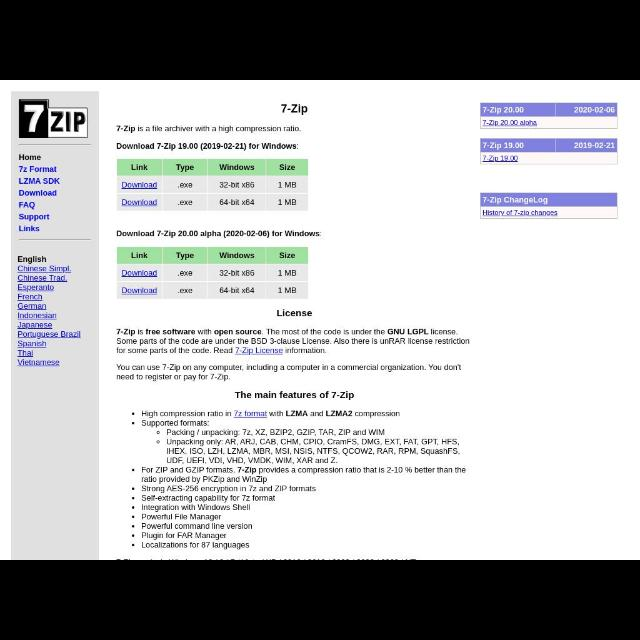image: (19, 100, 89, 138)
link: (482, 210, 558, 217), (18, 266, 72, 274), (234, 347, 284, 355), (17, 332, 81, 338), (482, 120, 538, 126), (120, 270, 158, 278), (18, 312, 56, 320), (18, 276, 68, 282), (18, 359, 60, 366), (122, 287, 158, 295), (18, 284, 54, 292), (122, 182, 158, 190), (18, 322, 52, 330), (234, 410, 268, 418), (122, 200, 158, 207), (17, 340, 47, 348), (482, 156, 518, 162), (17, 304, 47, 310), (18, 294, 42, 300), (17, 350, 33, 358)
panel: (11, 91, 99, 559), (117, 159, 309, 211), (117, 247, 309, 299), (480, 103, 618, 129), (480, 193, 618, 219), (480, 140, 618, 164)
text: (132, 486, 316, 550), (157, 430, 459, 464), (116, 329, 470, 355), (116, 363, 462, 382), (132, 467, 466, 483), (132, 410, 400, 426), (116, 231, 322, 239), (116, 126, 302, 134), (117, 143, 299, 151), (235, 392, 355, 401), (484, 197, 548, 206), (482, 107, 524, 115), (484, 142, 524, 150), (282, 104, 308, 116), (19, 165, 57, 172), (19, 190, 57, 197), (573, 143, 615, 149), (574, 107, 616, 113), (20, 178, 60, 184), (18, 256, 48, 264), (220, 200, 254, 207), (219, 164, 255, 170), (277, 310, 313, 316), (20, 213, 50, 220), (220, 182, 254, 188), (220, 253, 254, 259), (220, 270, 254, 276), (220, 287, 254, 293), (176, 164, 194, 172), (176, 252, 194, 260), (19, 155, 41, 161), (18, 226, 40, 232), (19, 202, 35, 210), (280, 252, 296, 260), (278, 270, 298, 276), (279, 182, 297, 188), (279, 200, 297, 206), (279, 287, 297, 293), (132, 164, 148, 170), (280, 164, 296, 170), (132, 252, 148, 258), (178, 288, 194, 294), (179, 200, 193, 206), (178, 184, 192, 188), (178, 272, 192, 276)
